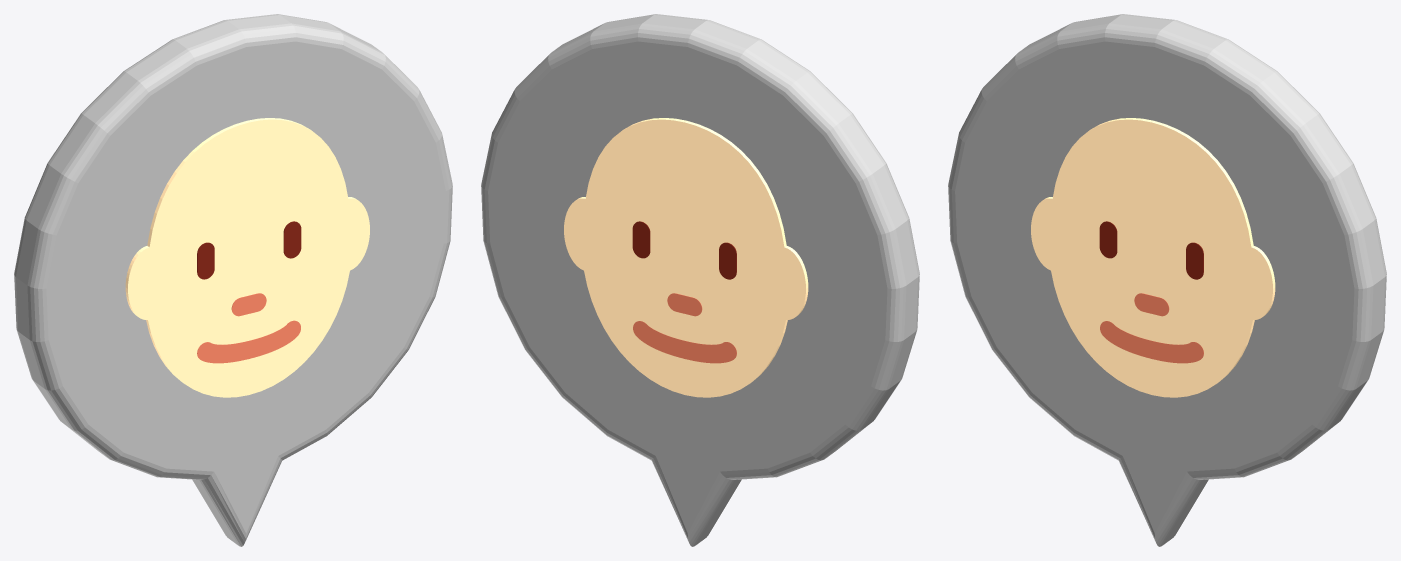
Rendered from mediumlight_skin_tone_bald.glb.
3 views of the same model, side by side, from view 1: azimuth 30°, elevation 25°; view 2: azimuth 150°, elevation 25°; view 3: azimuth 330°, elevation 25° (orthographic).
Visible parts, largest first — view 1: EmotionBubble; view 2: EmotionBubble; view 3: EmotionBubble.
Boxes of the visible parts, left/top/right/bottom form: EmotionBubble: left=14, top=14, right=452, bottom=546; EmotionBubble: left=481, top=14, right=919, bottom=546; EmotionBubble: left=948, top=14, right=1386, bottom=546.
Bounding box in the file's own units: 5.29 × 6.16 × 0.694.
